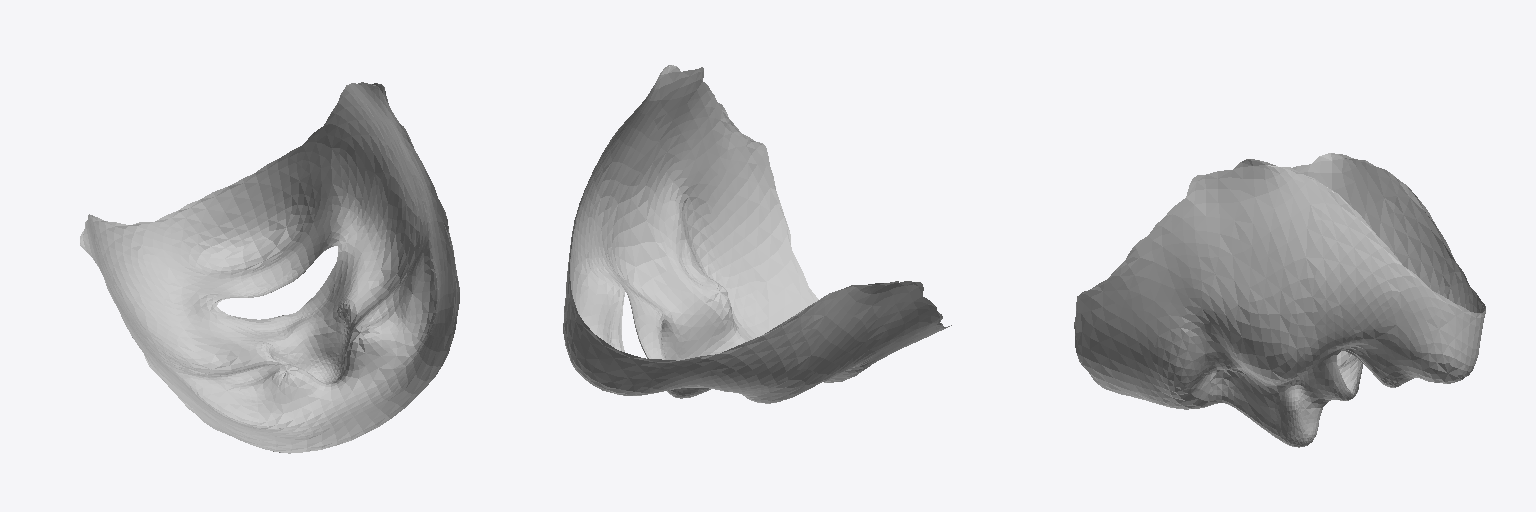
The model's file is face_gab_sfm94.obj.
3 views of the same model, side by side, from view 1: azimuth 30°, elevation 25°; view 2: azimuth 150°, elevation 25°; view 3: azimuth 270°, elevation 25° (orthographic).
Size of the model in its own units: 168 by 162 by 198.